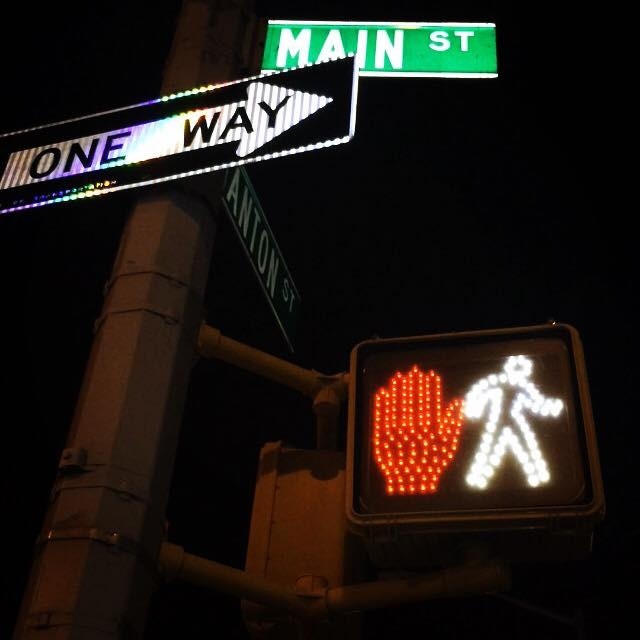pedestrian_stop: (352, 340, 461, 517)
pedestrian_walk: (458, 334, 602, 511)
pole: (14, 173, 221, 639), (162, 0, 256, 92)
